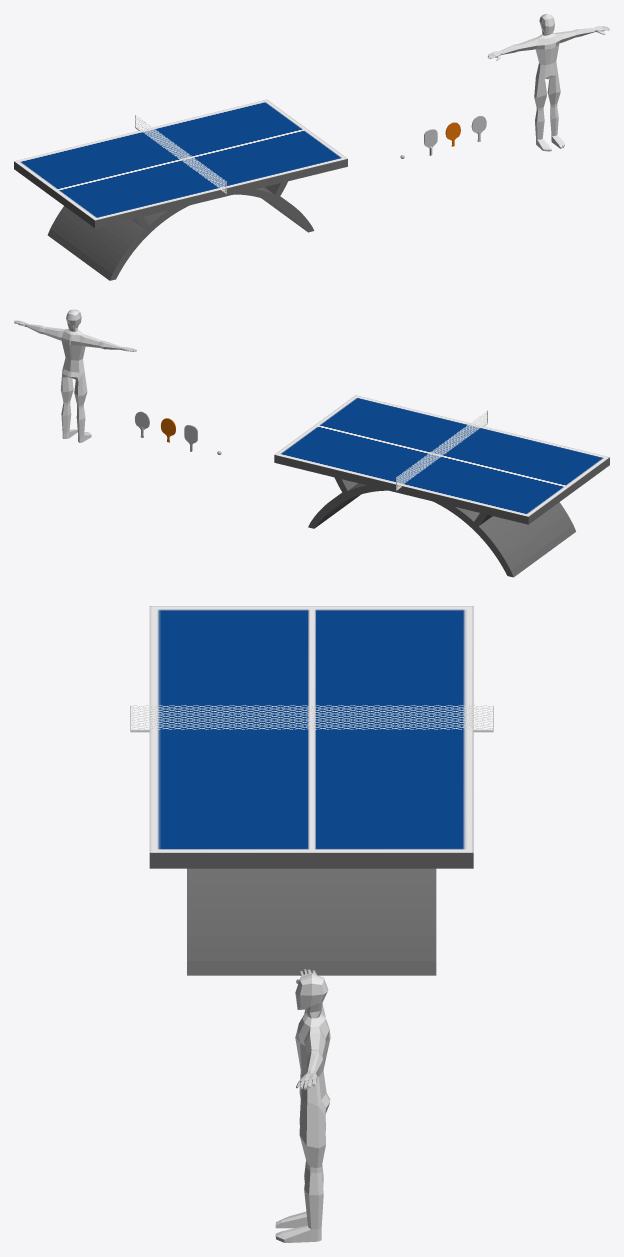
Rendered from ttguy.fbx.
3 renders of one model, top to bottom at view 1: azimuth 30°, elevation 25°; view 2: azimuth 150°, elevation 25°; view 3: azimuth 270°, elevation 25°, orthographic. The views are drawn at different scales.
Visible parts, largest first — view 1: Table2, ttguy; view 2: Table2, ttguy; view 3: Table2, ttguy.
Boxes of the visible parts, bbox=[...] form: Table2: bbox=[14, 99, 347, 280]; ttguy: bbox=[488, 14, 609, 151]; Table2: bbox=[274, 395, 609, 577]; ttguy: bbox=[14, 309, 136, 442]; Table2: bbox=[130, 606, 493, 975]; ttguy: bbox=[275, 969, 330, 1242].
Bounding box in the file's own units: 5309 × 1184 × 1509.
